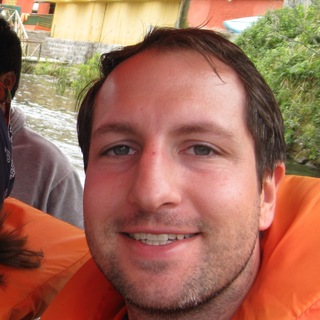eye: (172, 136, 228, 164), (97, 138, 141, 163)
